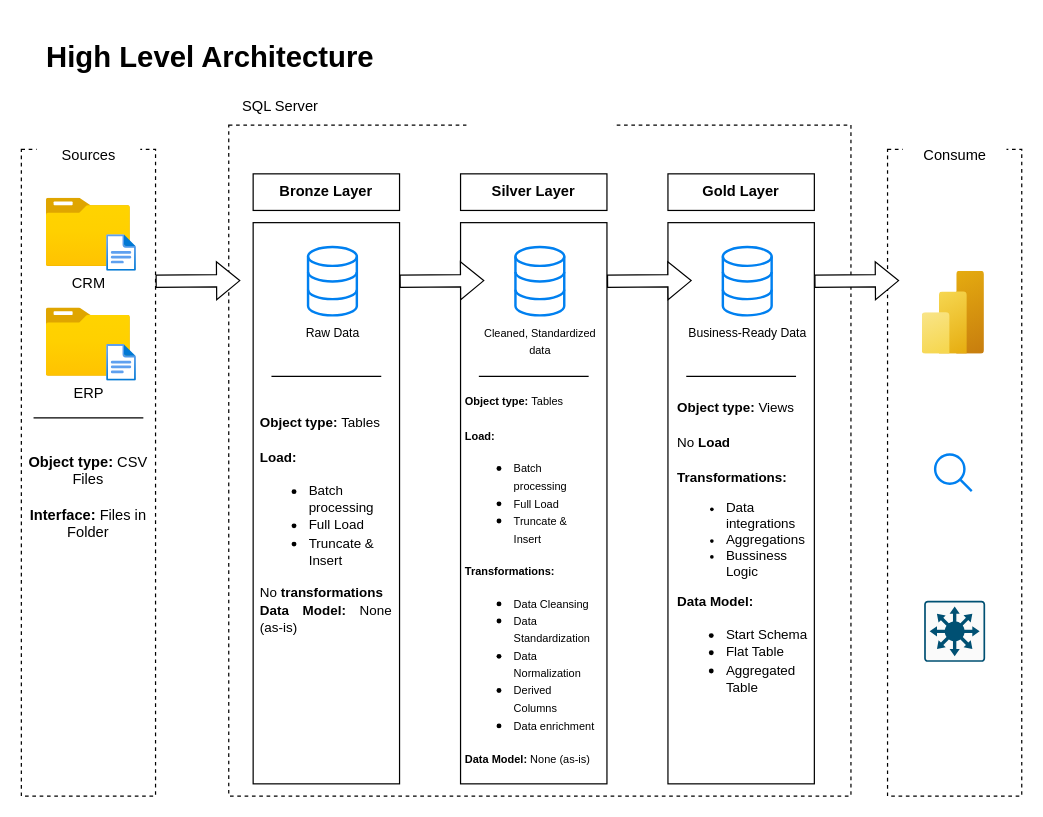
Image size: 1043x817. Some labels were removed from this diagram. Each missing label, with the box of its shape:
Ad-Hoc SQL Queries: (933, 453, 972, 492)
BI $ Reporting: (922, 271, 984, 354)
Data Warehouse: (466, 112, 612, 173)
Machine Learning: (923, 600, 985, 662)
